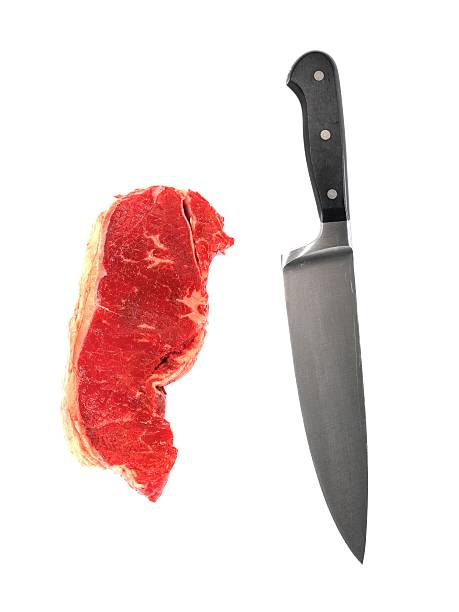knife: (278, 48, 372, 568)
